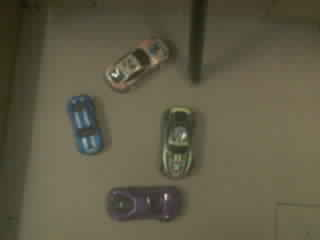Car: (106, 40, 168, 90), (108, 186, 181, 219), (161, 106, 193, 177), (68, 95, 102, 151)
